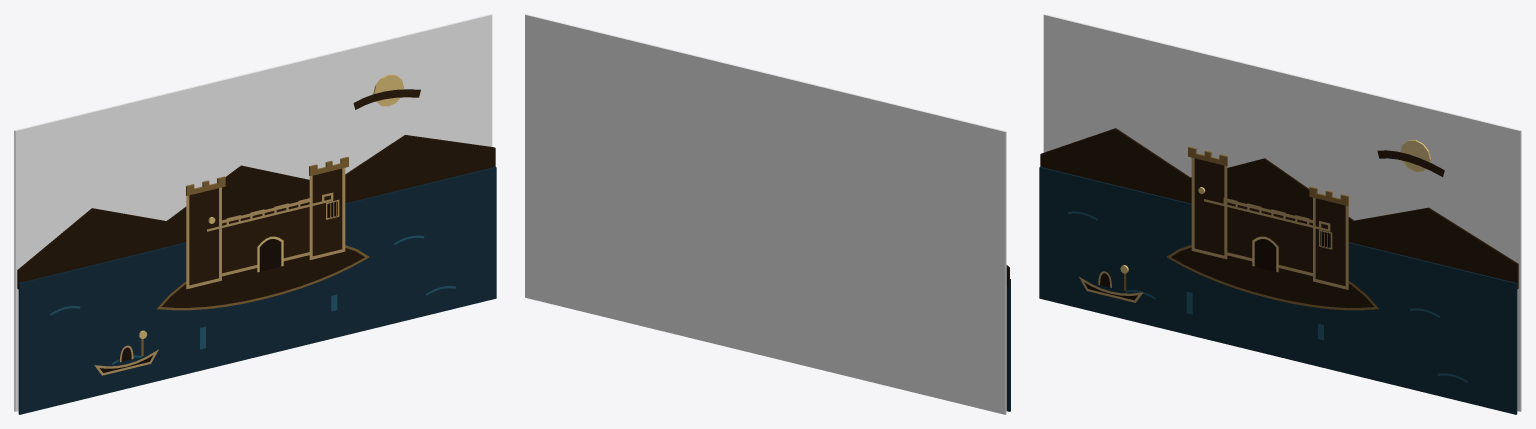
The model's file is loc-zamok-ostrov.glb.
3 renders of one model, left to right at view 1: azimuth 30°, elevation 25°; view 2: azimuth 150°, elevation 25°; view 3: azimuth 330°, elevation 25°, orthographic.
Parts seen in each view (by area): view 1: loc-zamok-ostrov; view 2: loc-zamok-ostrov; view 3: loc-zamok-ostrov.
Part boxes in pixels (x1,y1,x2,y2): loc-zamok-ostrov: (14, 14, 496, 414); loc-zamok-ostrov: (525, 14, 1010, 414); loc-zamok-ostrov: (1039, 14, 1521, 414).
Bounding box in the file's own units: 5.33 × 3 × 0.501.
